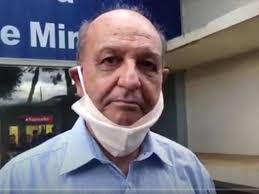mask_weared_incorrect: (69, 23, 168, 156)
